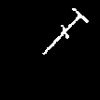double_crochet: (43, 8, 87, 53)
